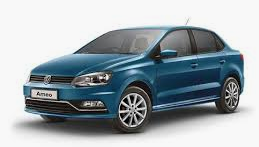car: (21, 18, 247, 137)
